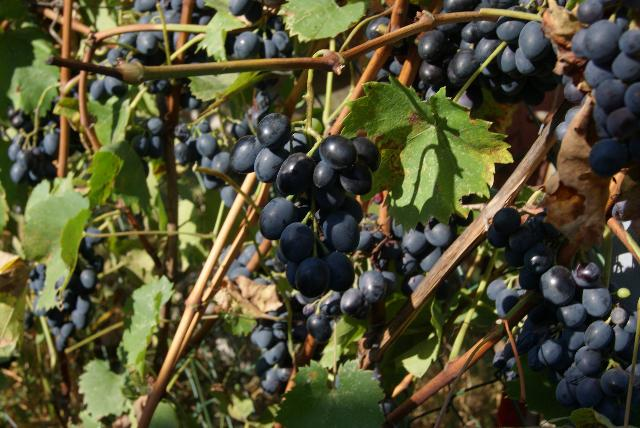grapes: (486, 208, 638, 422), (254, 114, 381, 342), (571, 0, 640, 238)
